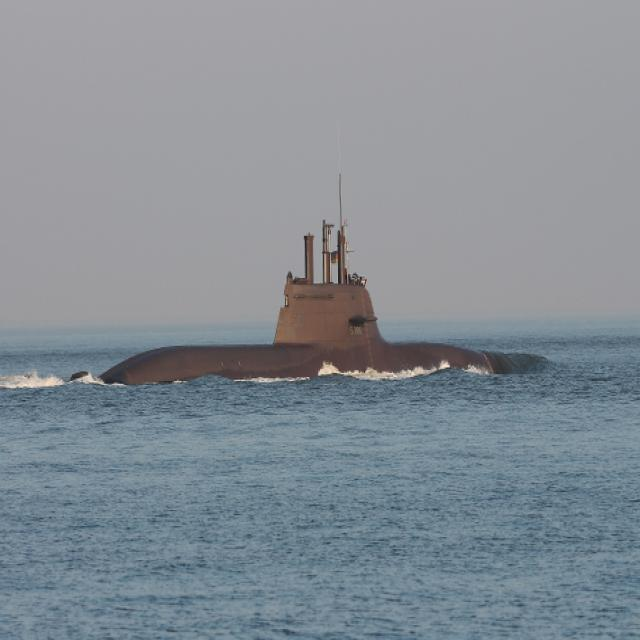submarine: (71, 215, 553, 386)
